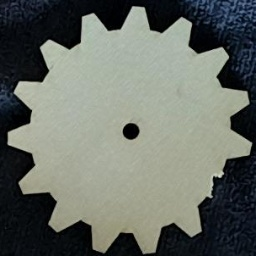Missing: (201, 166, 233, 203)
